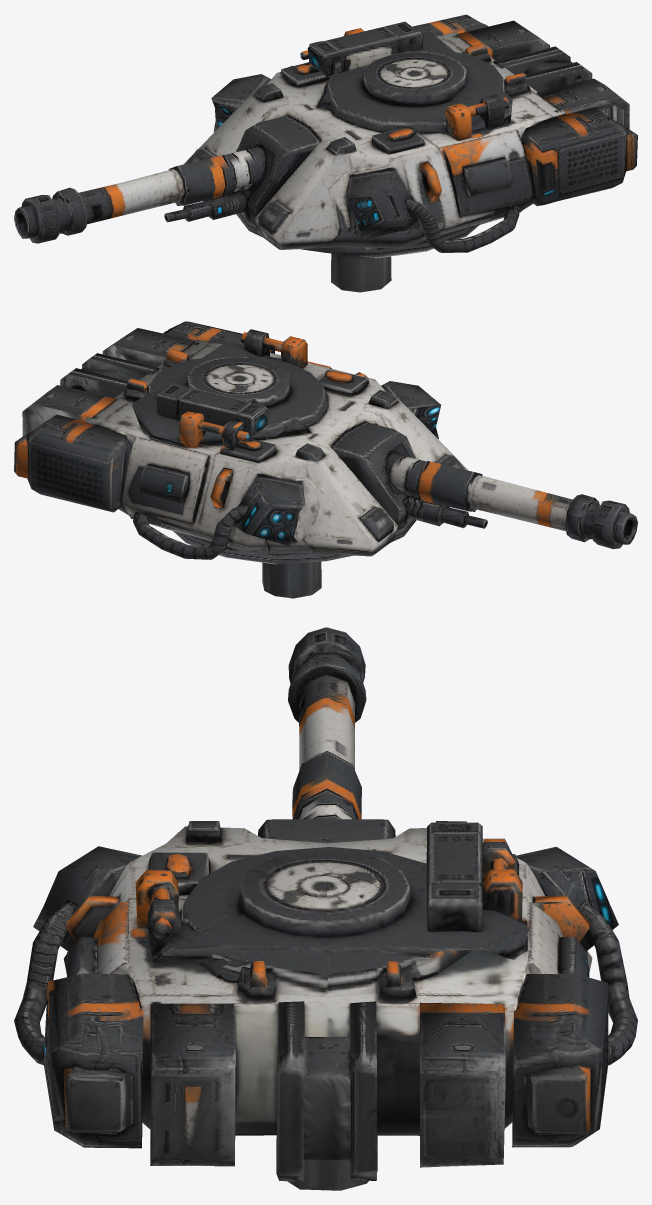
The model's file is tank_turret.glb.
3 views of the same model, one above another, from view 1: azimuth 30°, elevation 25°; view 2: azimuth 150°, elevation 25°; view 3: azimuth 270°, elevation 25° (orthographic). The views are drawn at different scales.
Visible parts, largest first — view 1: mesh_node; view 2: mesh_node; view 3: mesh_node.
Part boxes in pixels (x1,y1,x2,y2): mesh_node: (14,14,637,292); mesh_node: (14,321,637,598); mesh_node: (14,627,637,1190).
Size of the model in its own units: 1 by 0.3516 by 0.5762.
Materials: 1 (1 with a texture image).
